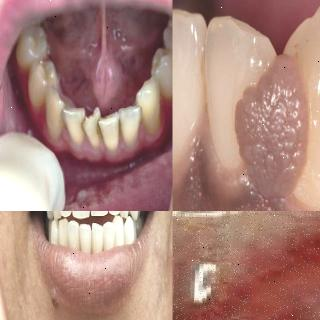Gum Swelling: (172, 115, 283, 211), (45, 123, 117, 158)
maligned: (62, 102, 88, 142), (120, 100, 144, 142), (81, 103, 101, 145), (98, 113, 122, 146), (79, 219, 91, 259), (90, 220, 102, 258), (124, 215, 135, 245), (69, 220, 79, 250), (51, 216, 60, 248)
stains: (111, 116, 128, 150), (93, 121, 106, 149), (78, 116, 90, 146)
